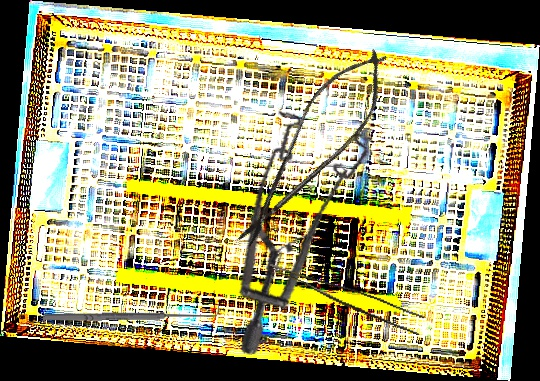Hook Surgical: (42, 303, 220, 324)
Micro Scissor: (221, 35, 405, 262)
Speculum: (207, 97, 402, 357)
Tissue Forceps: (262, 263, 427, 336)
